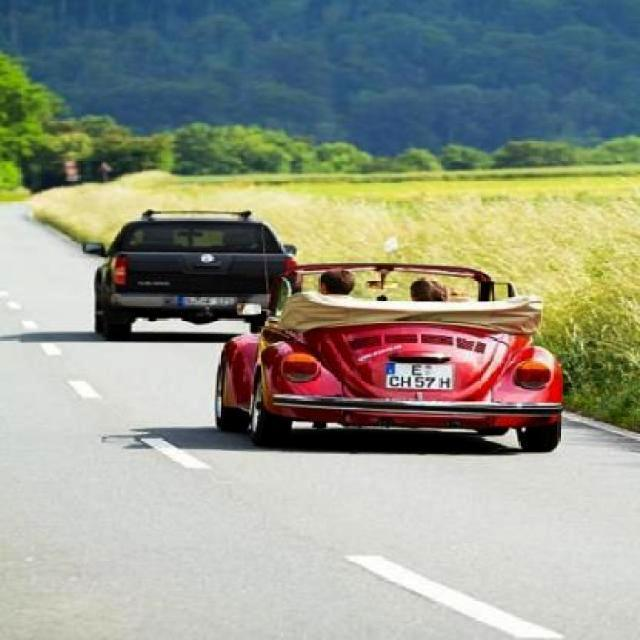car: (212, 277, 566, 446), (97, 217, 305, 331)
